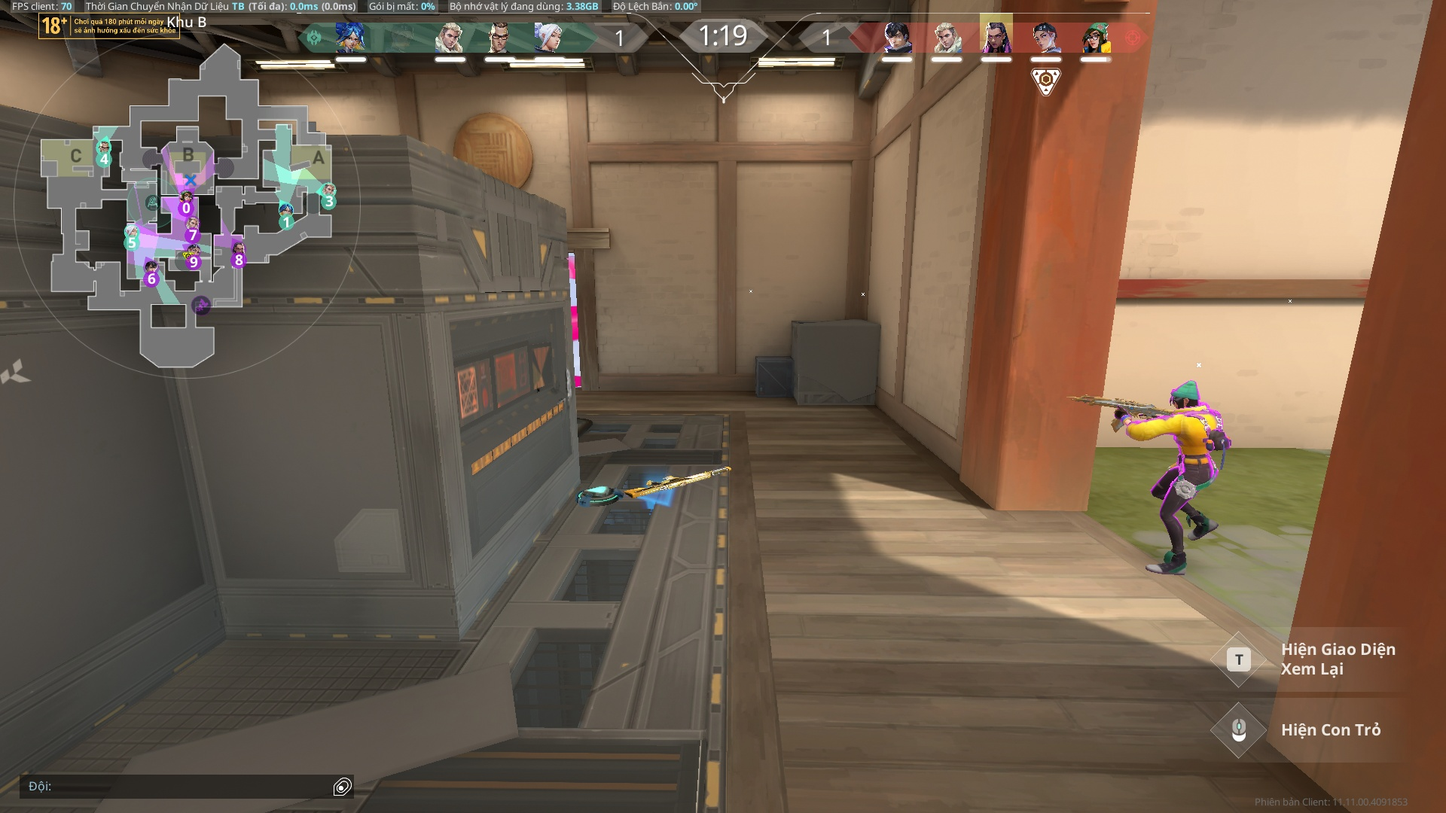body: (1169, 407, 1224, 456)
head: (1167, 389, 1202, 410)
